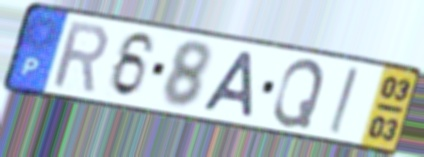6: (106, 30, 157, 100)
8: (161, 37, 213, 112)
A: (200, 48, 257, 120)
I: (326, 64, 361, 137)
Q: (270, 57, 327, 131)
R: (50, 18, 110, 96)
